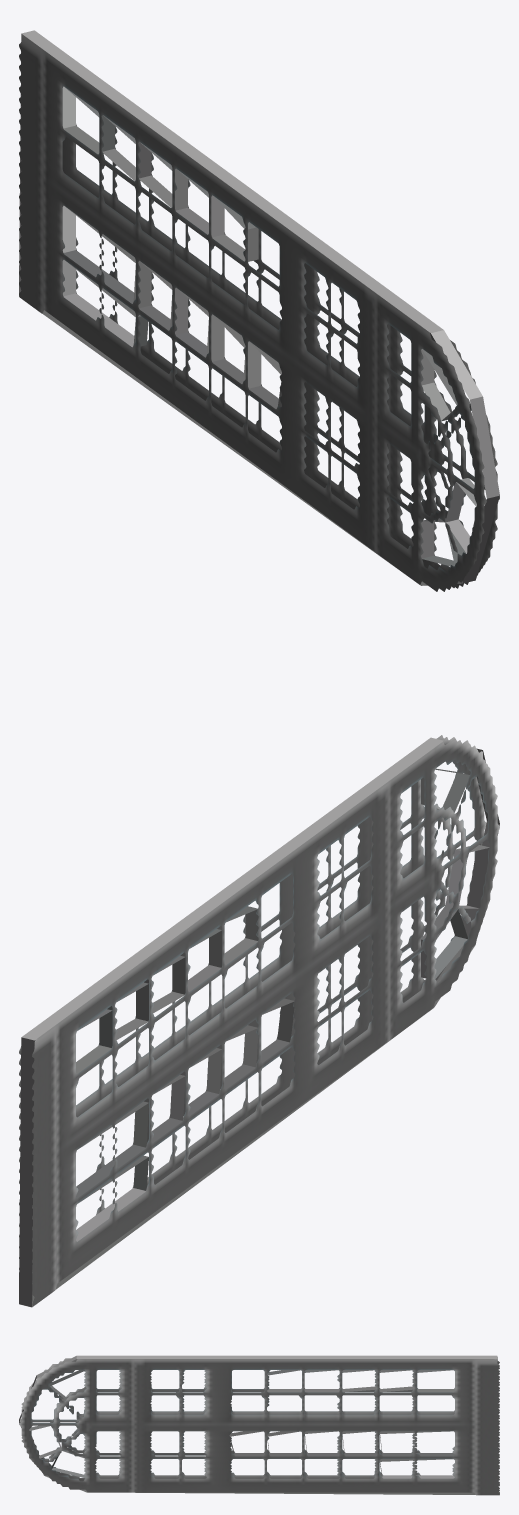
File: pz_native_fixtures_windows_01_72_frame.obj
3 views of the same model, one above another, from view 1: azimuth 30°, elevation 25°; view 2: azimuth 150°, elevation 25°; view 3: azimuth 270°, elevation 25° (orthographic). The views are drawn at different scales.
Parts seen in each view (by area): view 1: pz_native_fixtures_windows_01_72_frame; view 2: pz_native_fixtures_windows_01_72_frame; view 3: pz_native_fixtures_windows_01_72_frame.
Boxes of the visible parts, x1=… form: pz_native_fixtures_windows_01_72_frame: x1=19, y1=30, x2=499, y2=591; pz_native_fixtures_windows_01_72_frame: x1=19, y1=735, x2=499, y2=1307; pz_native_fixtures_windows_01_72_frame: x1=19, y1=1355, x2=499, y2=1495.
Size of the model in its own units: 0.04 by 0.8281 by 2.5.
Materials: 1 (1 with a texture image).
